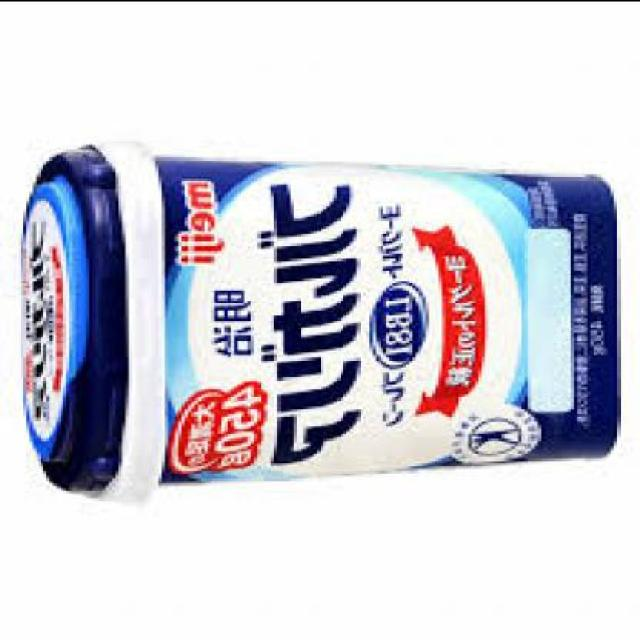PLASTIC: (14, 138, 617, 498)
